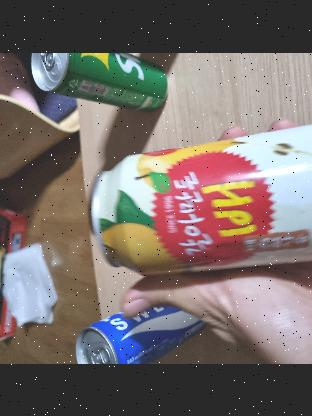Can: (92, 107, 312, 277), (70, 300, 204, 364), (29, 52, 171, 112)
